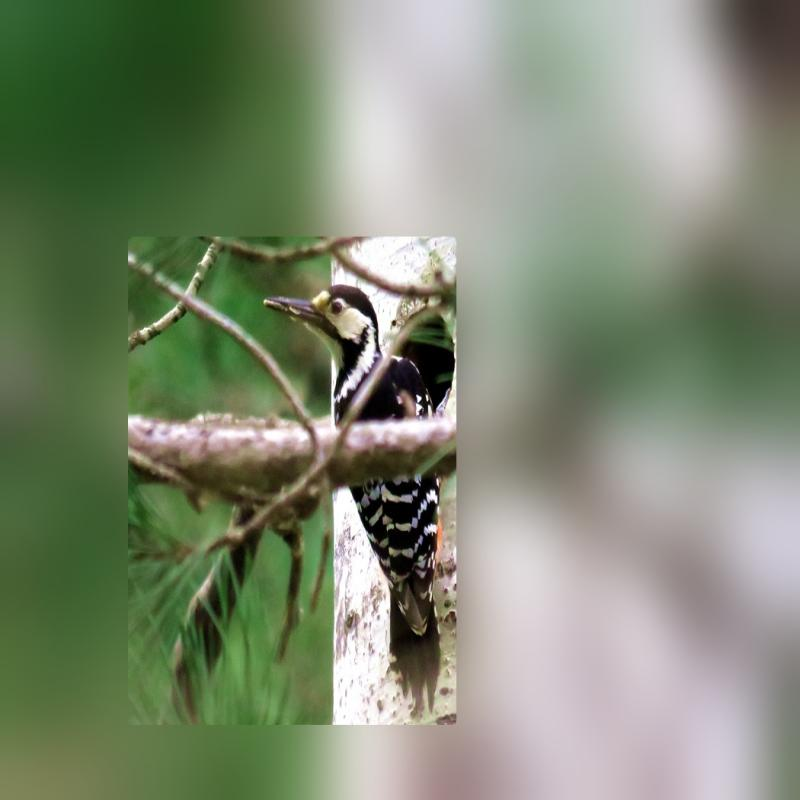white-backed woodpecker: (253, 272, 449, 674)
